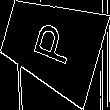P_W: (27, 19, 77, 70)
